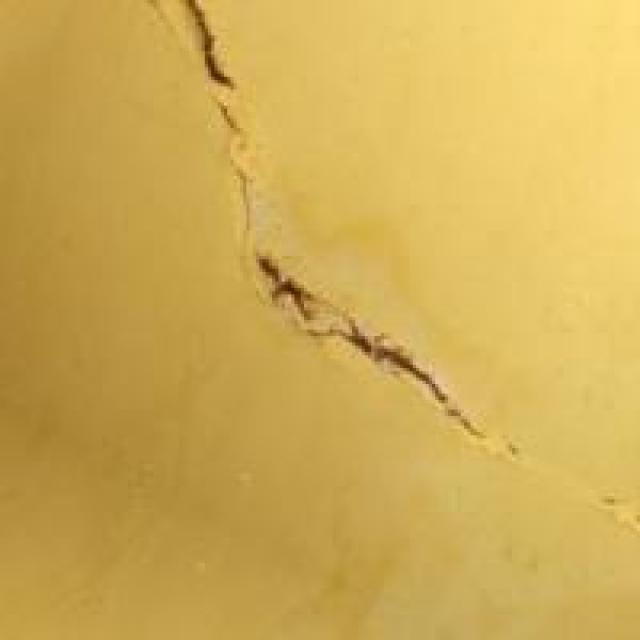Crack: (138, 0, 544, 458)
